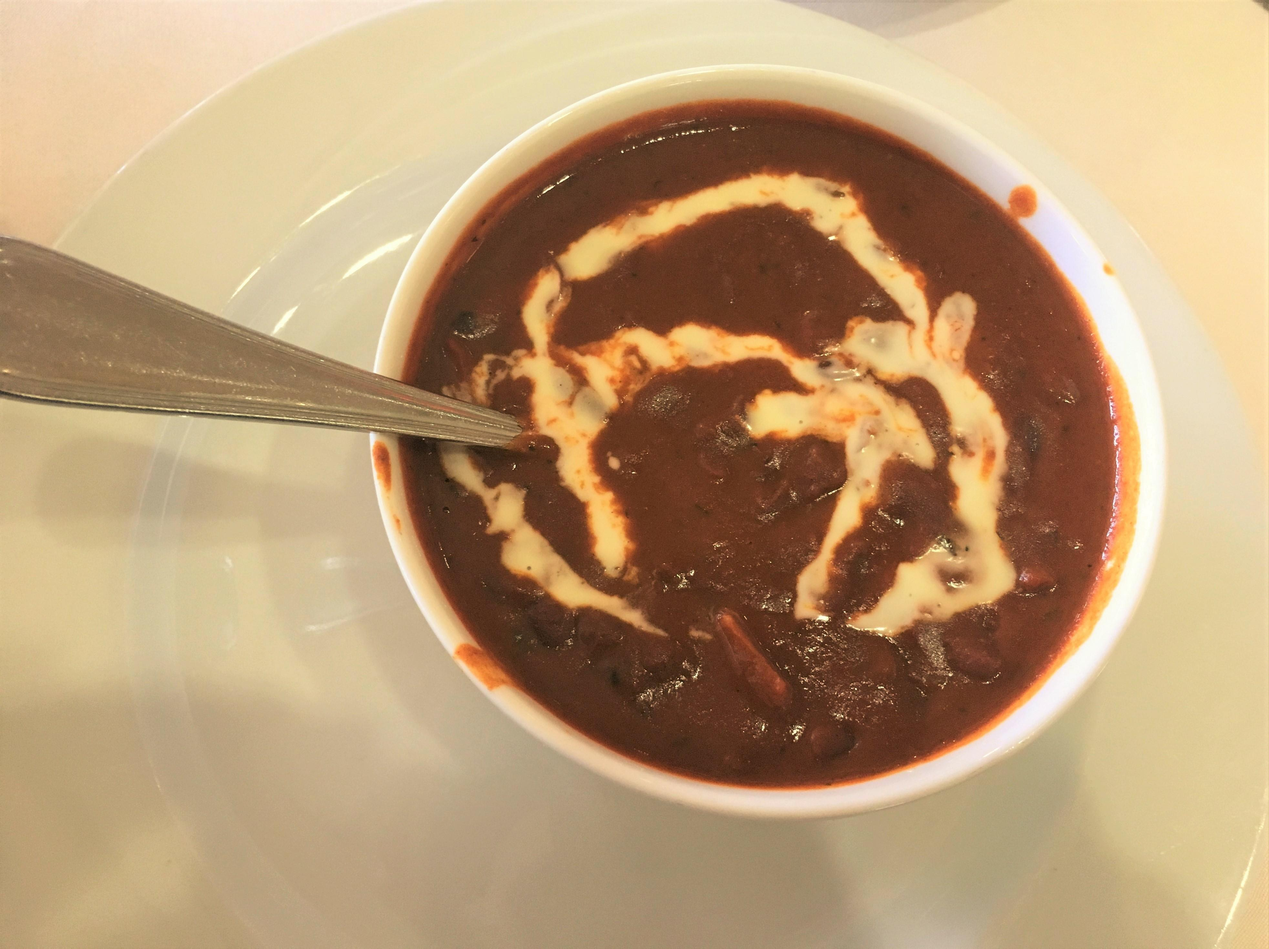RajmaCurry: (411, 102, 1114, 780)
